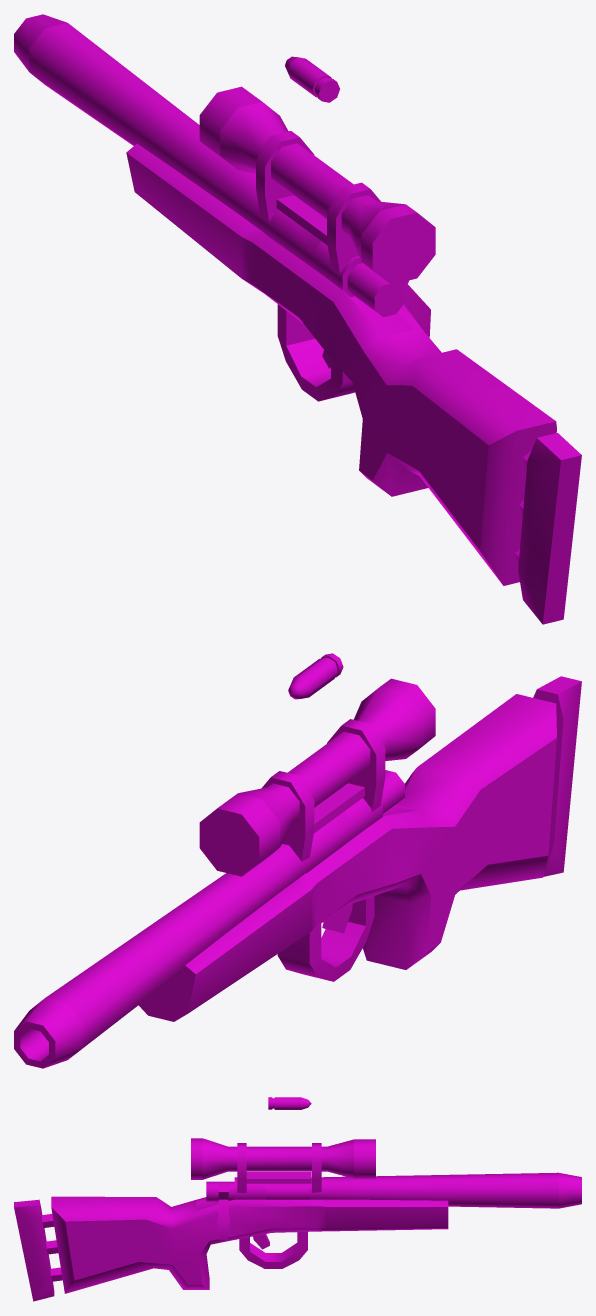
The model's file is RetextureTest.glb.
The picture shows the model from 3 angles, top to bottom: view 1: azimuth 30°, elevation 25°; view 2: azimuth 150°, elevation 25°; view 3: azimuth 270°, elevation 25°; orthographic projection. The views are drawn at different scales.
Visible parts, largest first — view 1: gun_m24; view 2: gun_m24; view 3: gun_m24.
Part boxes in pixels (bbox=[...]): gun_m24: bbox=[14, 14, 581, 624]; gun_m24: bbox=[14, 653, 581, 1068]; gun_m24: bbox=[14, 1097, 581, 1301].
Size of the model in its own units: 0.0525 by 0.2199 by 0.5633.
